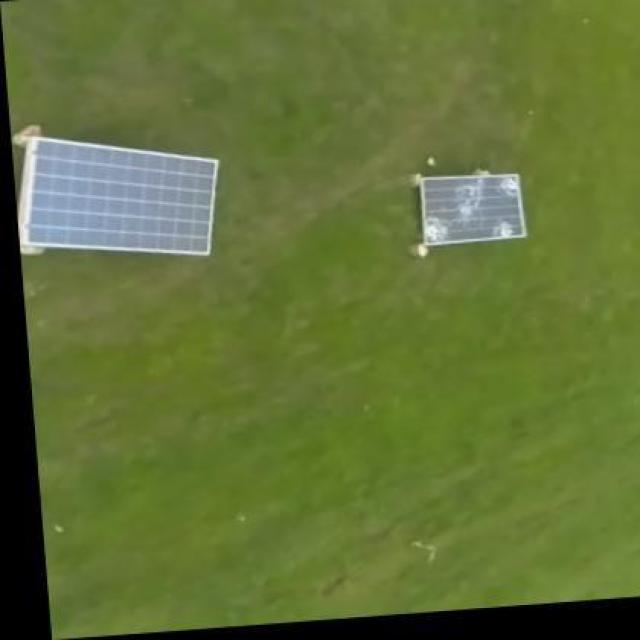cracked: (418, 169, 528, 250)
